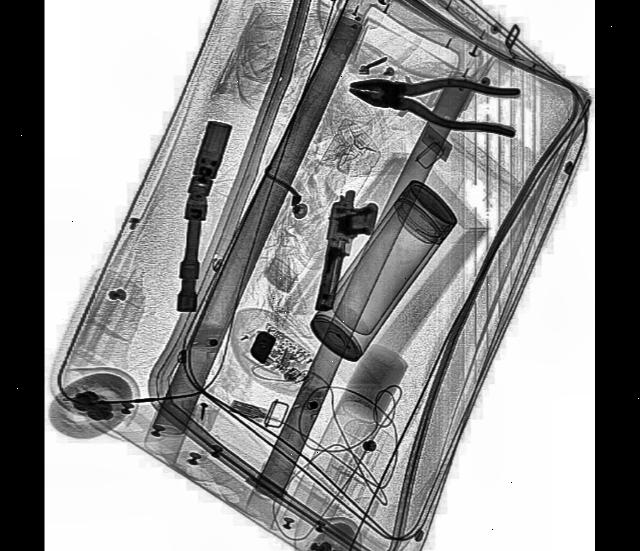Gun: (308, 183, 381, 322)
Pliers: (348, 62, 520, 140)
